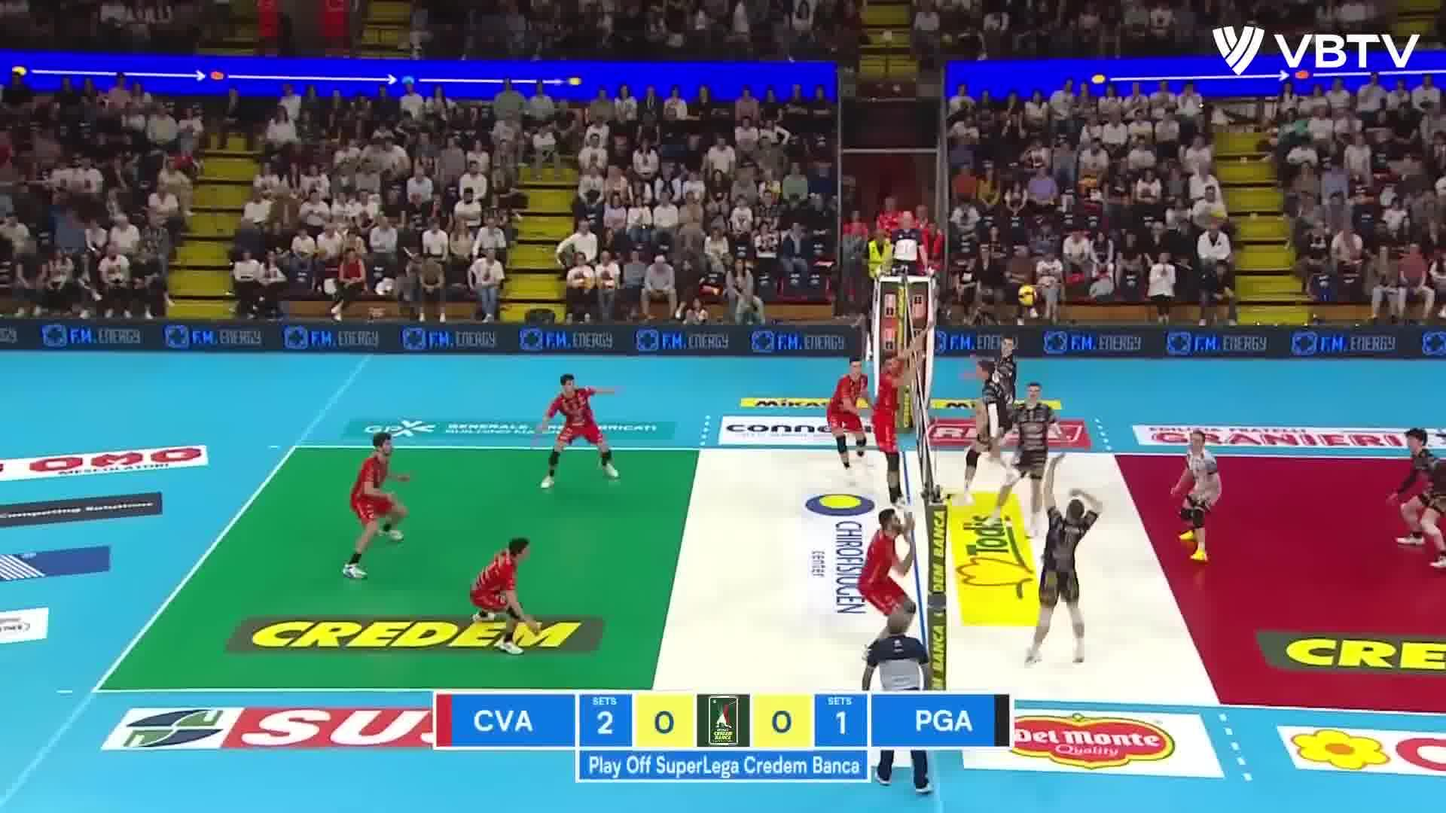balls: (1016, 282, 1040, 308)
